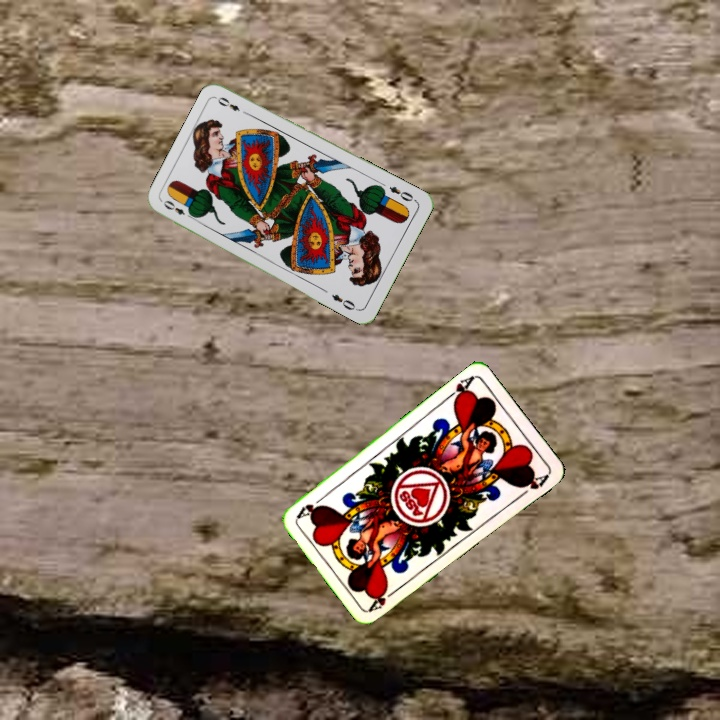EO: (159, 196, 197, 222), (385, 182, 419, 204)
HA: (442, 372, 477, 406), (365, 584, 401, 614)
